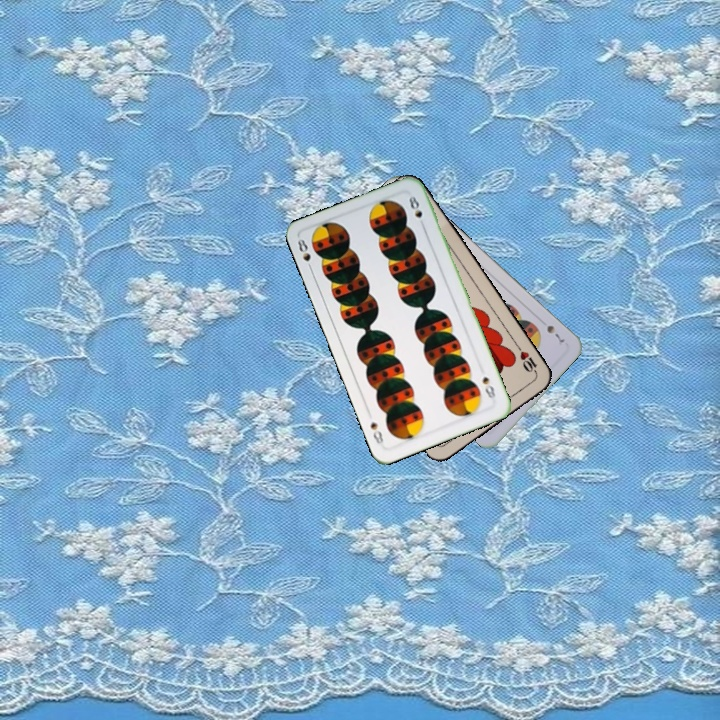H10: (513, 342, 540, 378)
S7: (542, 321, 568, 346)
S8: (293, 234, 315, 274), (478, 373, 498, 401)
